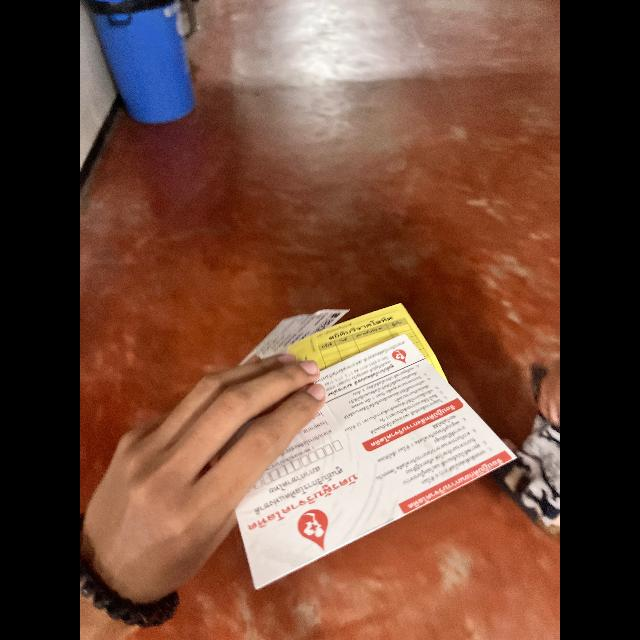scrap_paper: (220, 336, 516, 594), (259, 300, 451, 408), (211, 297, 345, 417)
